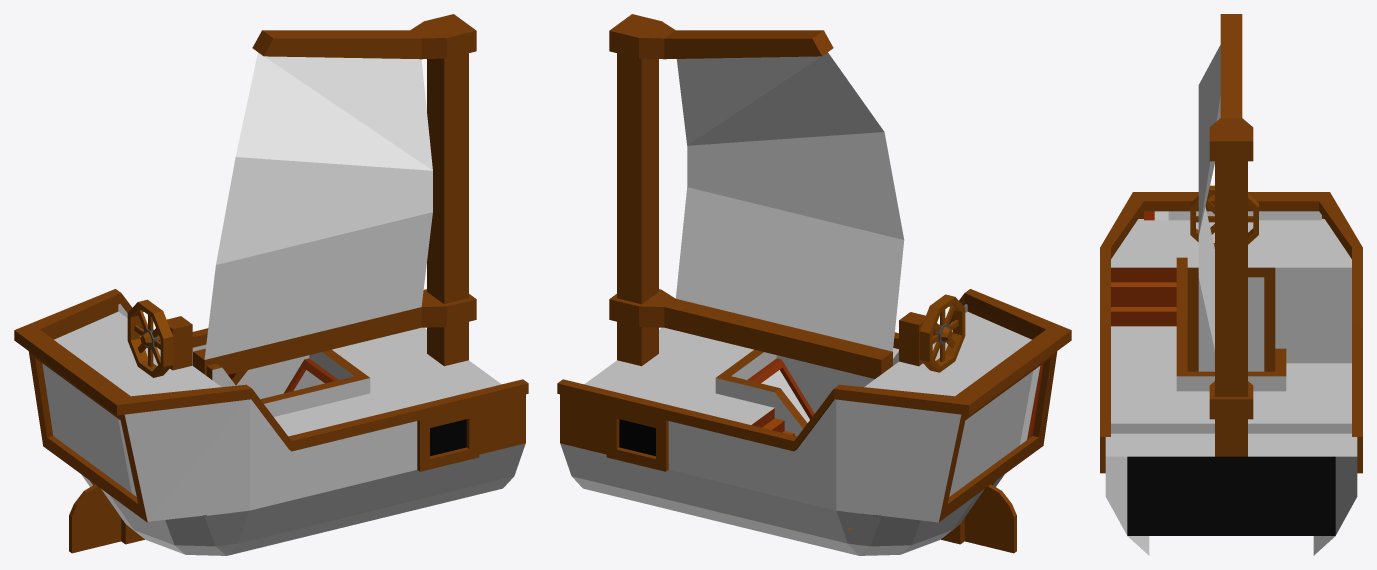
Rendered from Shipback.obj.
3 renders of one model, left to right at view 1: azimuth 30°, elevation 25°; view 2: azimuth 150°, elevation 25°; view 3: azimuth 270°, elevation 25°, orthographic. The views are drawn at different scales.
Visible parts, largest first — view 1: Shipback_back, Shipback_front; view 2: Shipback_back, Shipback_front; view 3: Shipback_back.
Part boxes in pixels (x1,y1,x2,y2): Shipback_back: (14,14,528,555); Shipback_front: (479,394,525,454); Shipback_back: (557,14,1071,555); Shipback_front: (560,394,606,454); Shipback_back: (1100,14,1362,555).
Size of the model in its own units: 6.48 by 7.28 by 3.84.
